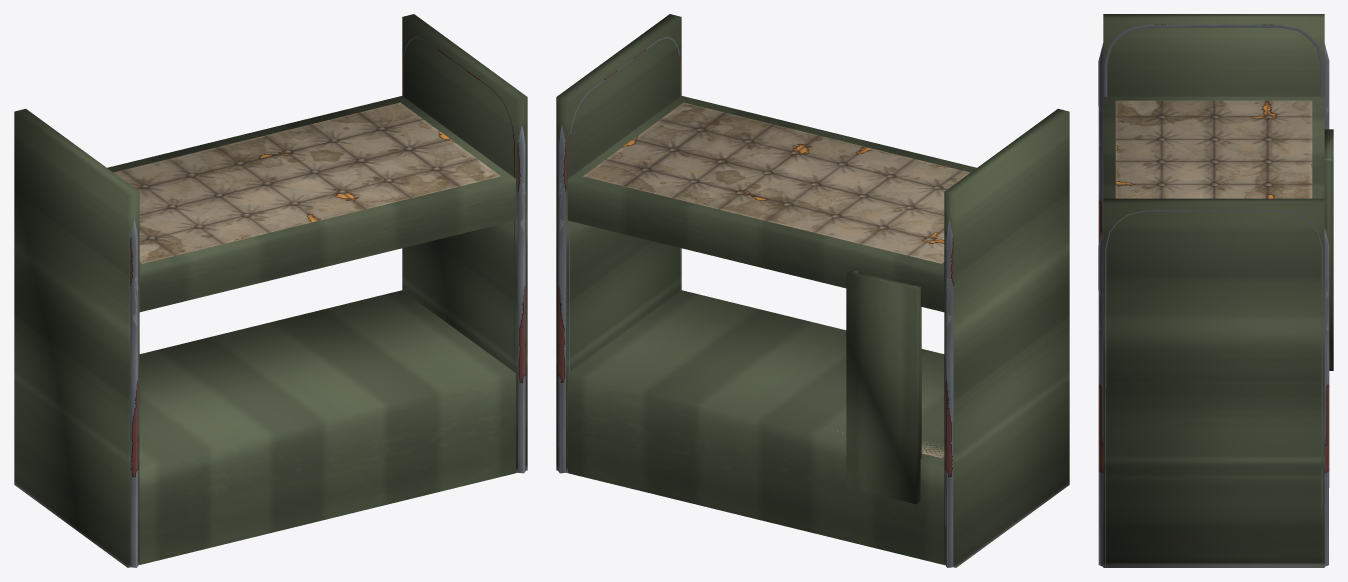
The model's file is bed04_A.fbx.
3 renders of one model, left to right at view 1: azimuth 30°, elevation 25°; view 2: azimuth 150°, elevation 25°; view 3: azimuth 270°, elevation 25°, orthographic. The views are drawn at different scales.
Visible parts, largest first — view 1: bed04_A_COL, bed04_A; view 2: bed04_A_COL, bed04_A; view 3: bed04_A_COL, bed04_A.
Part boxes in pixels (left/top/right/bottom): bed04_A_COL: left=14, top=14, right=527, bottom=567; bed04_A: left=113, top=36, right=526, bottom=567; bed04_A_COL: left=556, top=14, right=1069, bottom=567; bed04_A: left=557, top=36, right=970, bottom=567; bed04_A_COL: left=1103, top=14, right=1333, bottom=567; bed04_A: left=1098, top=24, right=1332, bottom=567.
Bounding box in the file's own units: 216 × 192 × 112.
